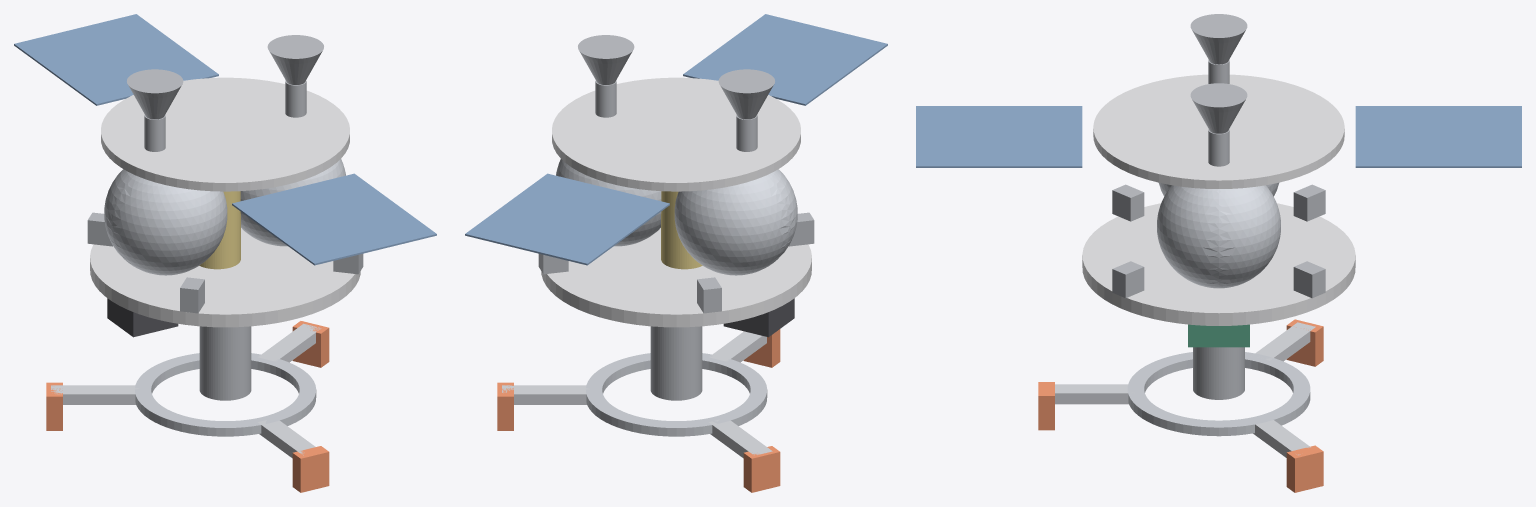
Rendered from v6_kit_sl8_deployed.glb.
3 views of the same model, side by side, from view 1: azimuth 30°, elevation 25°; view 2: azimuth 150°, elevation 25°; view 3: azimuth 270°, elevation 25° (orthographic).
Parts seen in each view (by area): view 1: top, deck, panel_b, tank_1, panel_a, clamp_ring, boom, engine_1, engine_0, arm_1, jaw_2, bottle (+9 smaller); view 2: top, deck, panel_a, tank_1, panel_b, clamp_ring, boom, engine_1, engine_0, bottle, arm_0, tank_0 (+9 smaller); view 3: top, deck, tank_0, panel_a, panel_b, clamp_ring, engine_0, boom, engine_1, jaw_0, arm_2, avionics (+8 smaller).
Part boxes in pixels (x1,y1,x2,y2): top: [101, 77, 349, 191]; deck: [90, 228, 360, 327]; panel_b: [232, 173, 436, 265]; tank_1: [104, 169, 227, 275]; panel_a: [14, 14, 218, 105]; clamp_ring: [135, 353, 316, 436]; boom: [199, 326, 251, 400]; engine_1: [127, 69, 183, 151]; engine_0: [267, 35, 323, 117]; arm_1: [51, 385, 138, 404]; jaw_2: [292, 446, 329, 492]; bottle: [199, 191, 240, 269]; top: [552, 77, 800, 191]; deck: [541, 228, 811, 327]; panel_a: [465, 173, 669, 265]; tank_1: [674, 169, 797, 275]; panel_b: [683, 14, 887, 105]; clamp_ring: [586, 353, 767, 436]; boom: [650, 326, 702, 400]; engine_1: [718, 69, 774, 151]; engine_0: [578, 35, 634, 117]; bottle: [661, 191, 702, 269]; arm_0: [502, 385, 589, 404]; tank_0: [556, 159, 661, 246]; top: [1093, 74, 1344, 188]; deck: [1082, 203, 1355, 325]; tank_0: [1157, 185, 1280, 288]; panel_a: [1355, 106, 1521, 167]; panel_b: [916, 106, 1082, 167]; clamp_ring: [1127, 352, 1310, 436]; engine_0: [1190, 83, 1247, 166]; boom: [1193, 347, 1244, 399]; engine_1: [1190, 14, 1247, 83]; jaw_0: [1286, 445, 1323, 492]; arm_2: [1055, 384, 1132, 404]; avionics: [1188, 324, 1249, 347].
Size of the model in its own units: 1.39 by 1.68 by 2.55.
